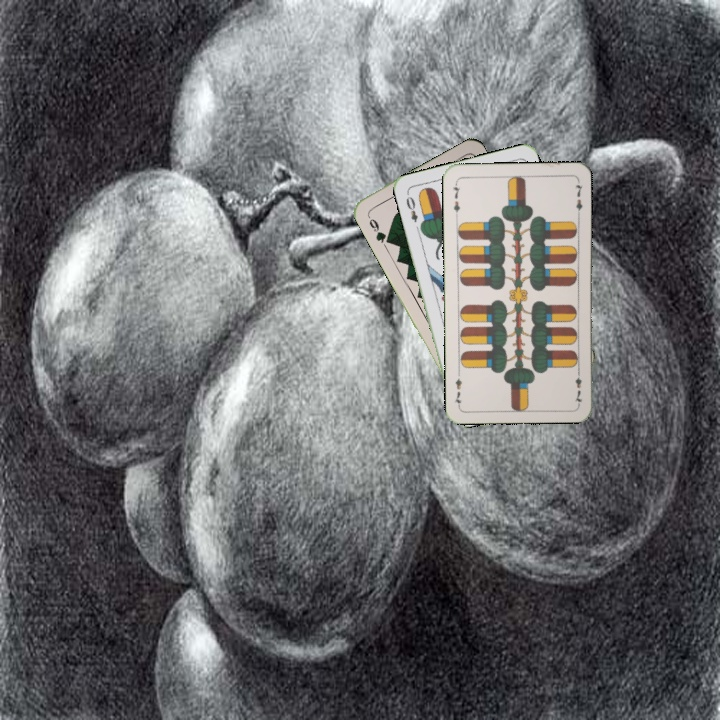E7: (449, 179, 463, 219), (571, 366, 585, 406)
EO: (402, 189, 420, 225)
G9: (363, 211, 392, 246)
